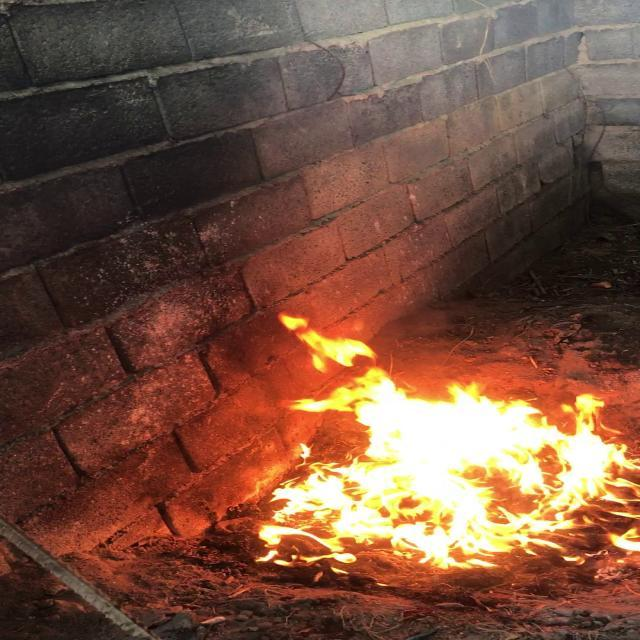Fire: (247, 317, 628, 589)
